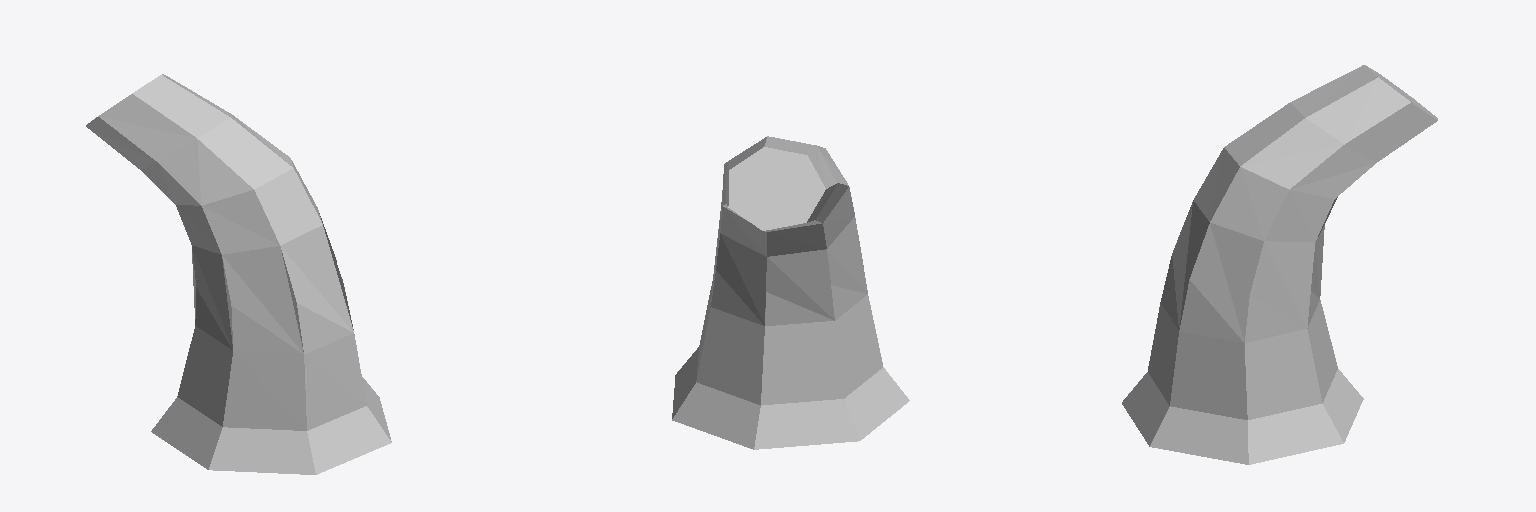
The model's file is pump stem.obj.
3 views of the same model, side by side, from view 1: azimuth 30°, elevation 25°; view 2: azimuth 150°, elevation 25°; view 3: azimuth 270°, elevation 25° (orthographic).
Parts seen in each view (by area): view 1: stem; view 2: stem; view 3: stem.
Part boxes in pixels (bbox=[...]): stem: bbox=[86, 74, 391, 474]; stem: bbox=[672, 136, 909, 449]; stem: bbox=[1122, 65, 1437, 464].
Size of the model in its own units: 34.6 by 47.87 by 44.01.